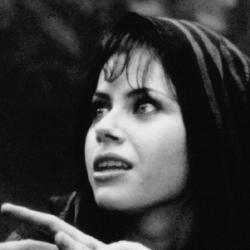face: (50, 9, 249, 215)
